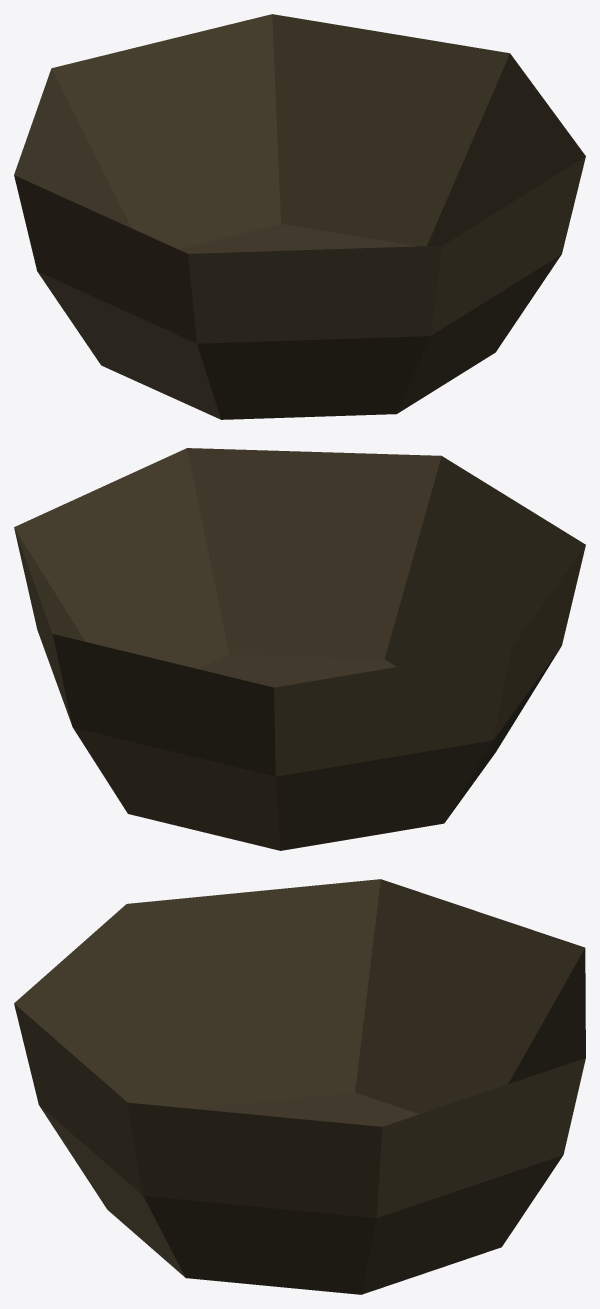
File: ITFO_RICE_01.OBJ
The picture shows the model from 3 angles, top to bottom: view 1: azimuth 30°, elevation 25°; view 2: azimuth 150°, elevation 25°; view 3: azimuth 270°, elevation 25°; orthographic projection. The views are drawn at different scales.
Parts seen in each view (by area): view 1: ITFO_RICE_01; view 2: ITFO_RICE_01; view 3: ITFO_RICE_01.
Boxes of the visible parts, x1,y1,x2,y2 form: ITFO_RICE_01: [14, 14, 585, 419]; ITFO_RICE_01: [14, 448, 585, 850]; ITFO_RICE_01: [14, 879, 585, 1294].
Size of the model in its own units: 0.3219 by 0.1311 by 0.314.
